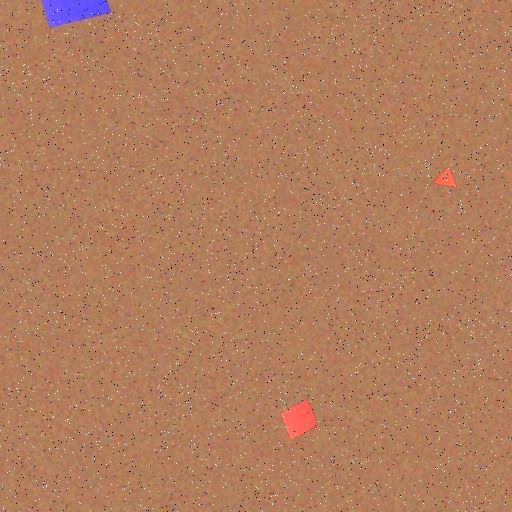BLUE_SQUARE: (30, 0, 112, 28)
RED_SQUARE: (279, 398, 319, 440)
